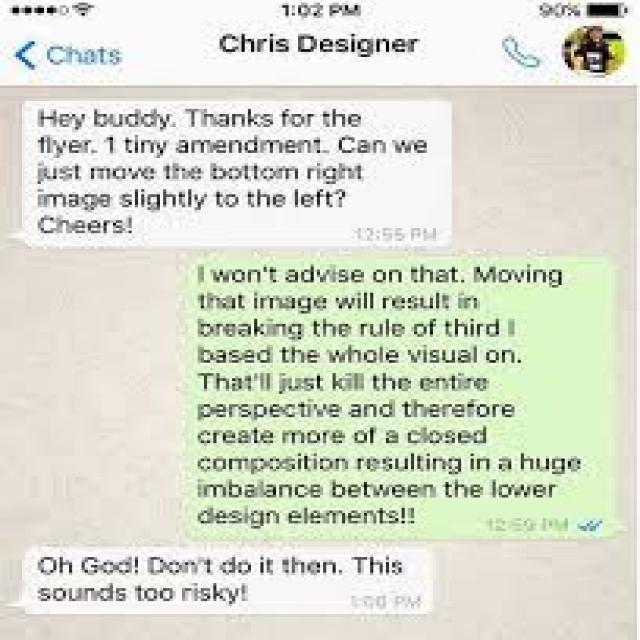scam: (21, 97, 454, 250), (22, 545, 436, 611)
